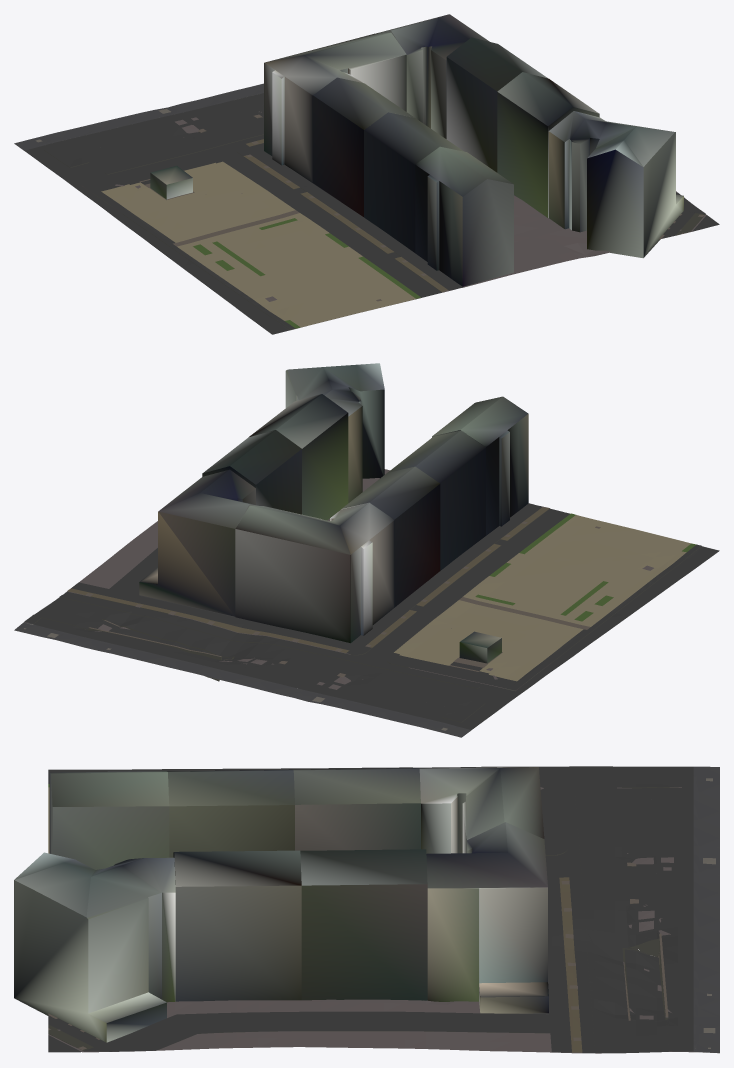
3 views of the same model, one above another, from view 1: azimuth 30°, elevation 25°; view 2: azimuth 150°, elevation 25°; view 3: azimuth 270°, elevation 25° (orthographic). The views are drawn at different scales.
Parts seen in each view (by area): view 1: append:c_p00_m09, c_p00_m09; view 2: append:c_p00_m09, c_p00_m09; view 3: append:c_p00_m09, c_p00_m09.
Boxes of the visible parts, x1=… form: append:c_p00_m09: x1=24, y1=14, x2=719, y2=334; c_p00_m09: x1=14, y1=83, x2=683, y2=258; append:c_p00_m09: x1=24, y1=394, x2=719, y2=729; c_p00_m09: x1=14, y1=363, x2=471, y2=737; append:c_p00_m09: x1=48, y1=766, x2=693, y2=1053; c_p00_m09: x1=14, y1=766, x2=719, y2=1053.
Bounding box in the file's own units: 128 × 35.77 × 135.
